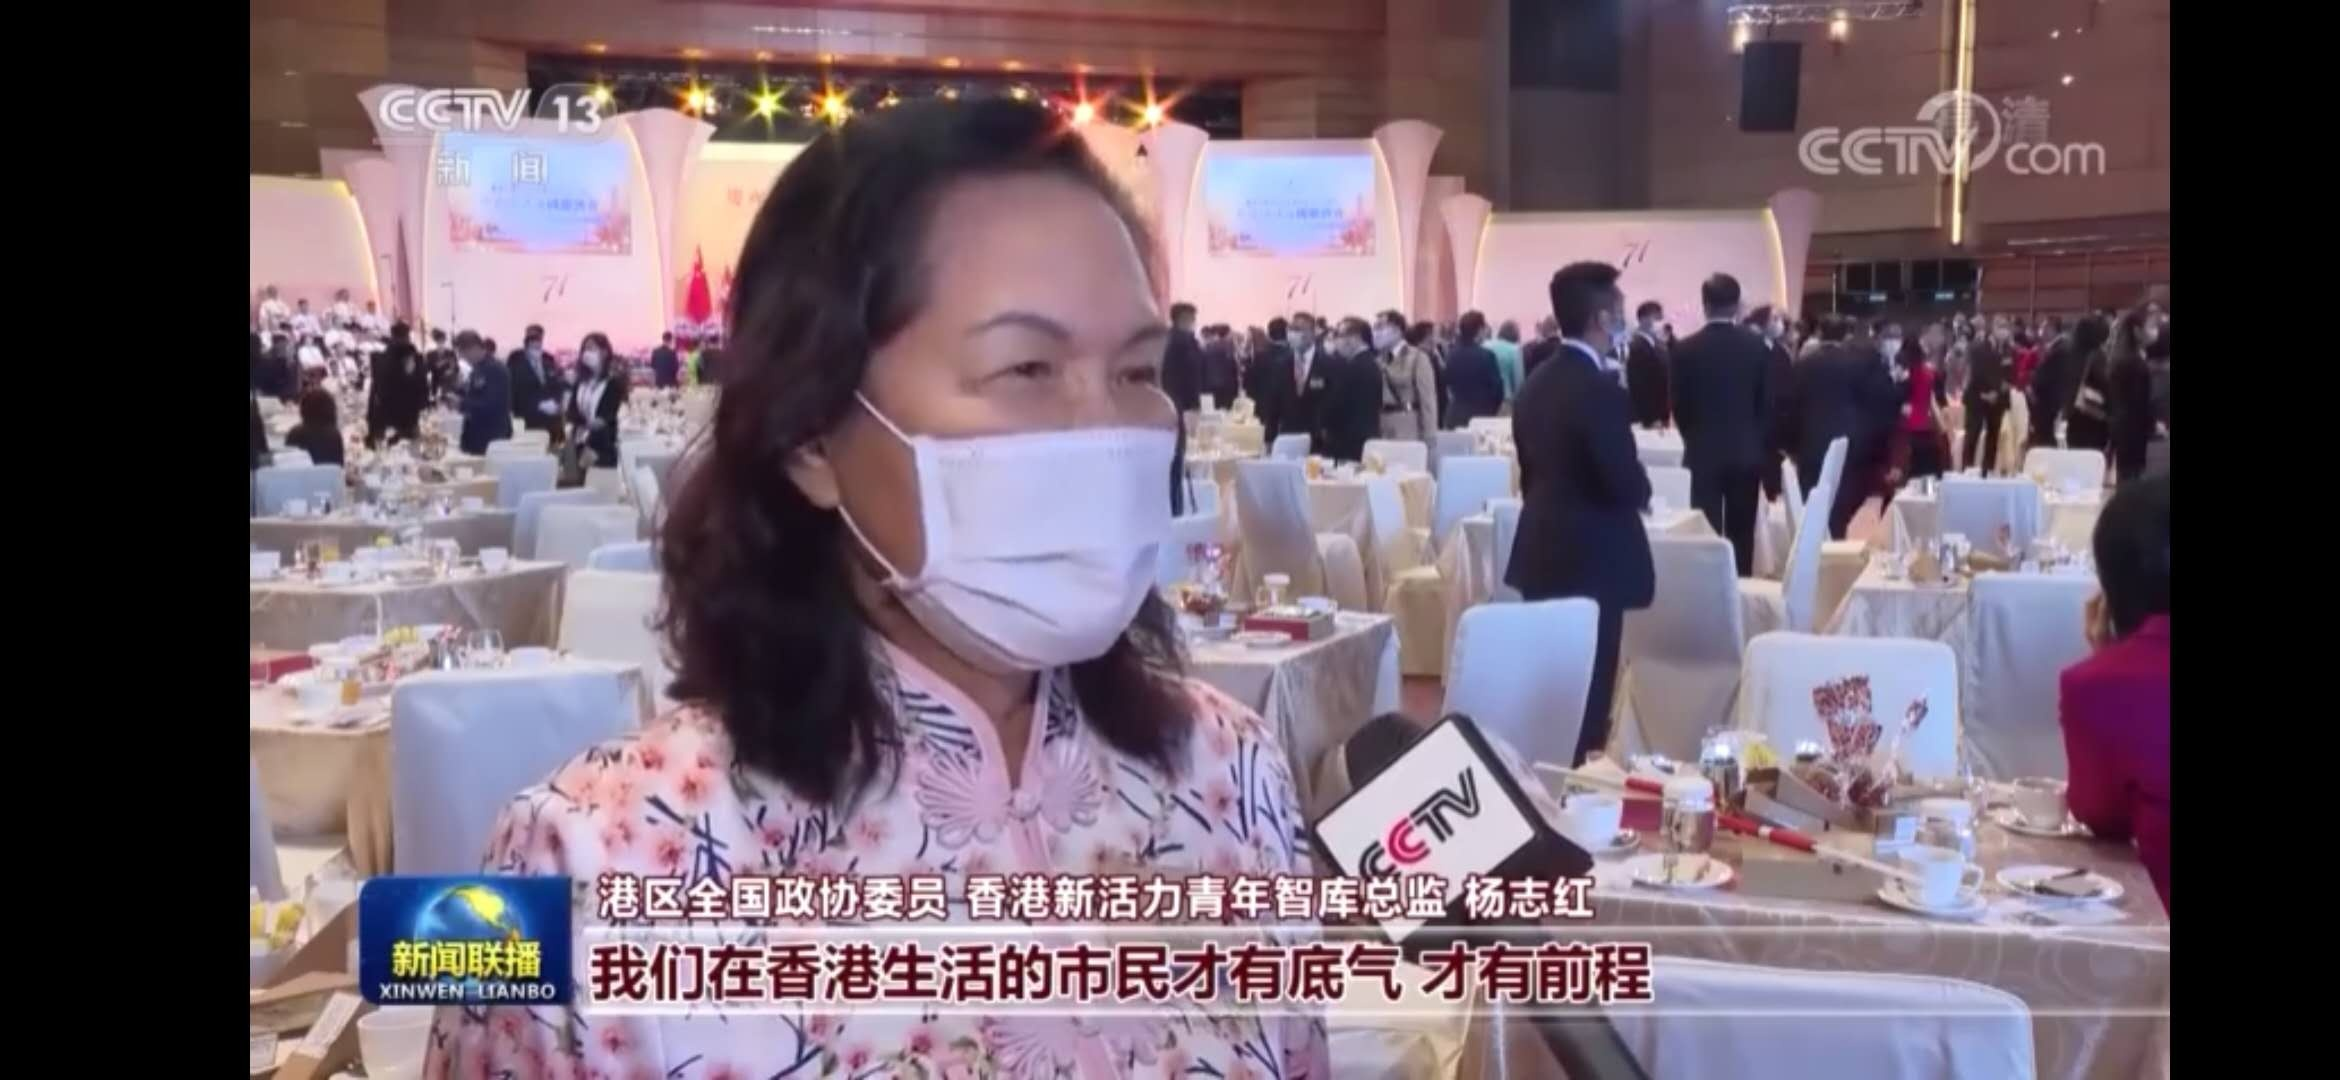correctlyWear: (778, 260, 1188, 682), (1588, 288, 1630, 354), (1336, 325, 1363, 357), (1285, 318, 1310, 351), (1374, 315, 1397, 351), (1877, 327, 1903, 358), (582, 336, 604, 365), (1640, 307, 1664, 333), (1762, 313, 1783, 337)
noWear: (458, 342, 482, 364)
